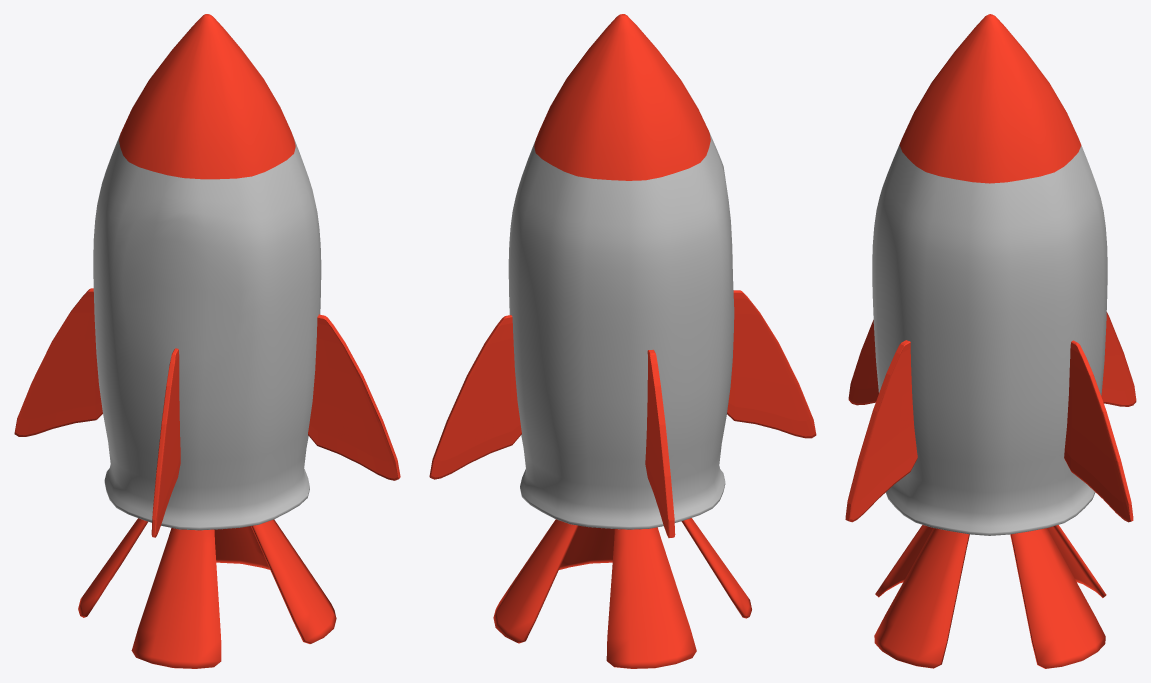
Rendered from Rockest.fbx.
3 renders of one model, left to right at view 1: azimuth 30°, elevation 25°; view 2: azimuth 150°, elevation 25°; view 3: azimuth 270°, elevation 25°, orthographic.
Parts seen in each view (by area): view 1: Rocket.002; view 2: Rocket.002; view 3: Rocket.002.
Boxes of the visible parts, <box> form: Rocket.002: <box>14,14,400,668</box>; Rocket.002: <box>429,14,816,668</box>; Rocket.002: <box>845,14,1136,668</box>.
Size of the model in its own units: 68.25 by 158 by 68.67.
